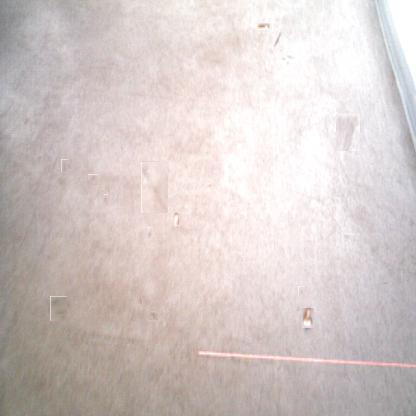dirty: (302, 307, 314, 328), (257, 24, 271, 32), (174, 212, 180, 227)
mark: (141, 161, 168, 213), (336, 114, 360, 151), (48, 298, 69, 319), (272, 32, 282, 50), (281, 52, 294, 64), (147, 311, 158, 321), (88, 175, 99, 185), (60, 160, 70, 170), (343, 232, 352, 241), (58, 178, 66, 188), (380, 280, 390, 288), (146, 227, 152, 240), (298, 286, 305, 297), (206, 179, 214, 187), (104, 194, 108, 205), (138, 294, 142, 304), (120, 146, 124, 154), (132, 150, 136, 158)
